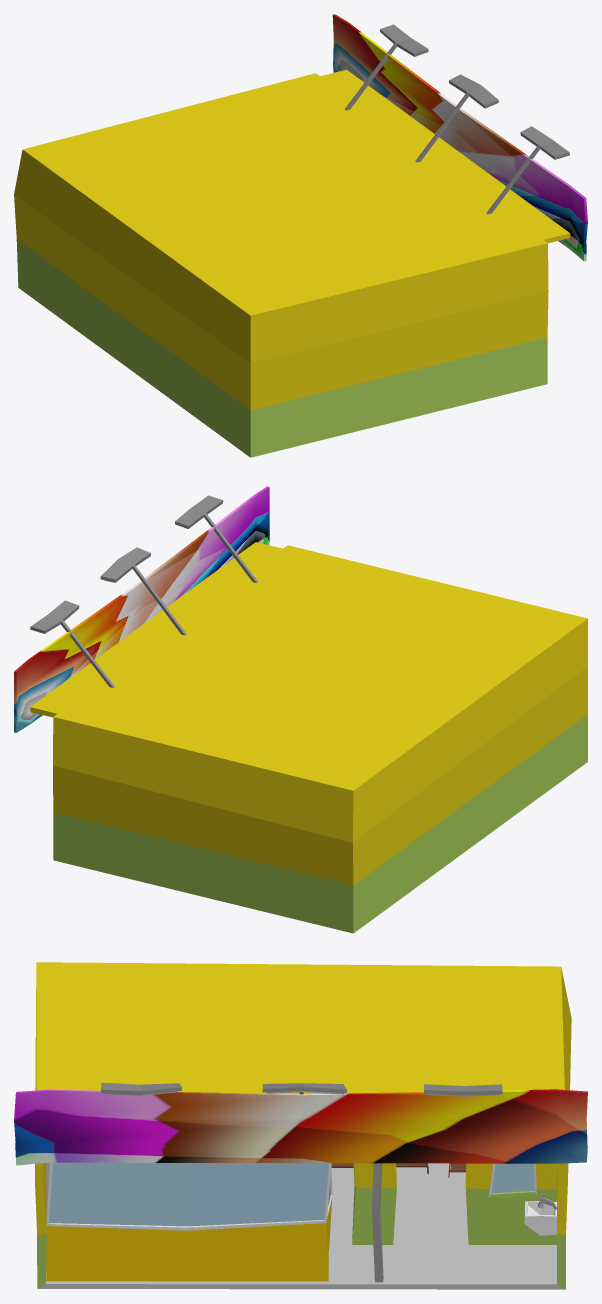
File: rm padang.fbx
3 views of the same model, one above another, from view 1: azimuth 30°, elevation 25°; view 2: azimuth 150°, elevation 25°; view 3: azimuth 270°, elevation 25° (orthographic). The views are drawn at different scales.
Parts seen in each view (by area): view 1: Cube, Cube.004; view 2: Cube, Cube.004; view 3: Cube, Cube.003, Cube.002, Cube.004, Cube.001, Cube.005.
Boxes of the visible parts, x1,y1,x2,y2 form: Cube: [14, 14, 587, 457]; Cube.004: [344, 24, 569, 214]; Cube: [14, 486, 587, 933]; Cube.004: [30, 495, 258, 687]; Cube: [14, 962, 587, 1289]; Cube.003: [46, 1162, 332, 1281]; Cube.002: [352, 1163, 557, 1244]; Cube.004: [101, 1082, 502, 1096]; Cube.001: [372, 1163, 383, 1282]; Cube.005: [524, 1201, 556, 1235].
Size of the model in its own units: 941 by 524 by 1170.
